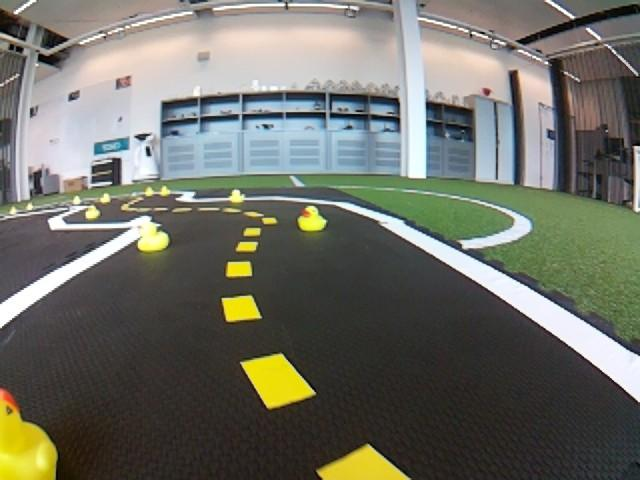Duckies: (0, 391, 56, 480), (137, 224, 170, 252), (297, 206, 326, 232), (228, 189, 246, 203), (85, 205, 100, 220), (99, 193, 112, 204), (159, 186, 169, 195), (71, 195, 81, 204), (144, 187, 154, 196), (10, 208, 18, 215), (25, 204, 33, 209)
